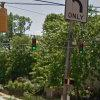Tree: (42, 11, 100, 94)
